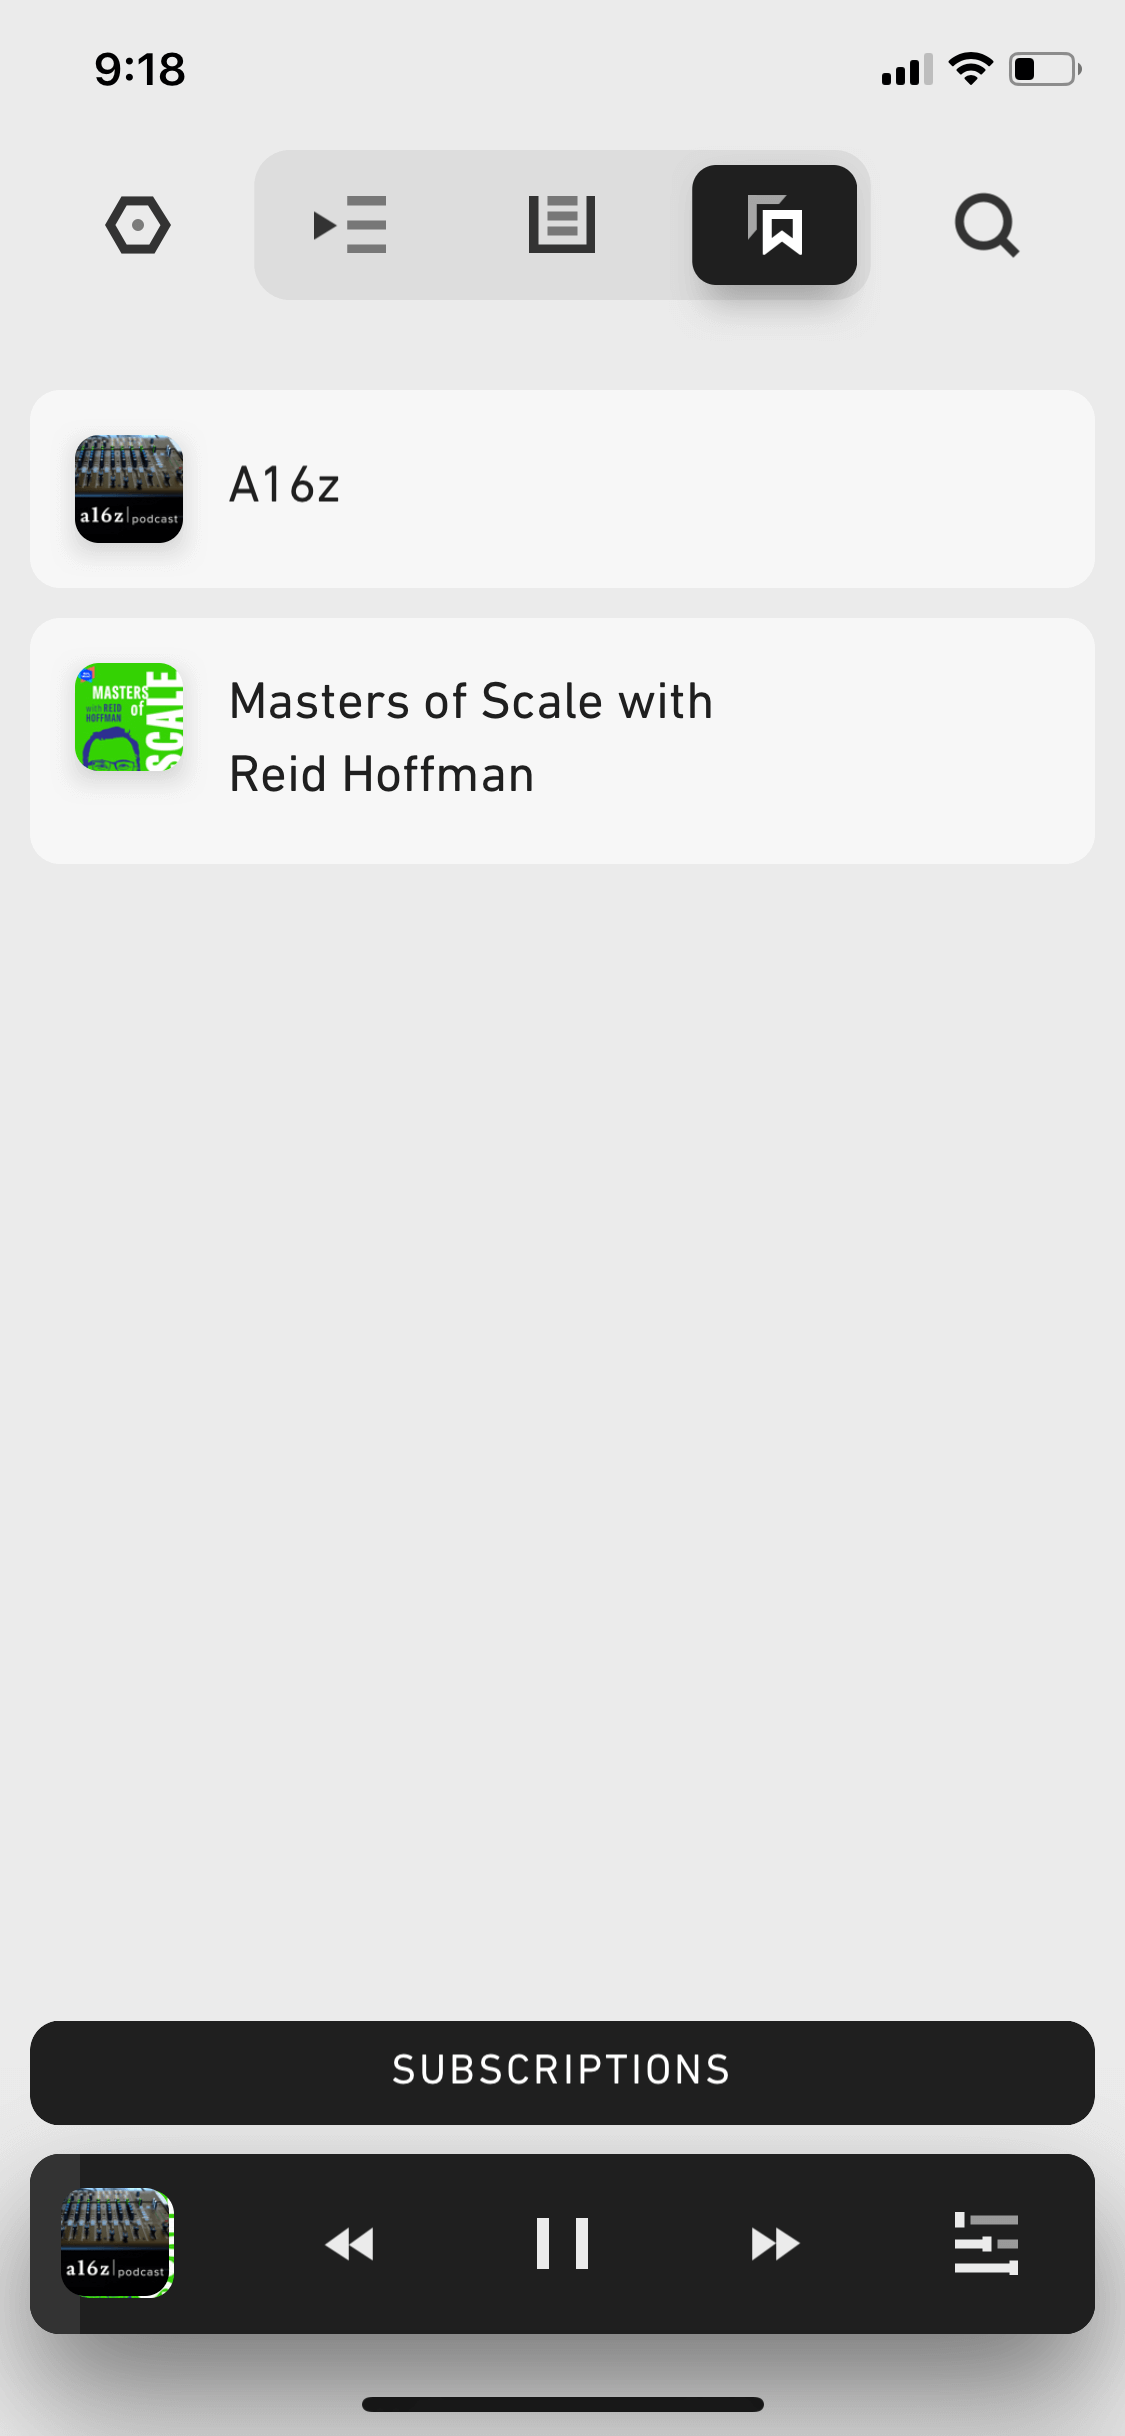Buttons: (17, 1993, 1108, 2136), (238, 148, 897, 311), (64, 149, 214, 312), (920, 144, 1061, 304)
